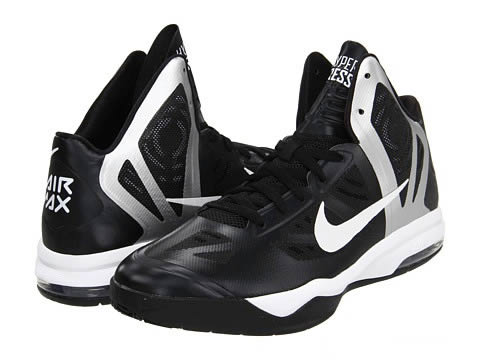nike: (312, 179, 412, 254)
